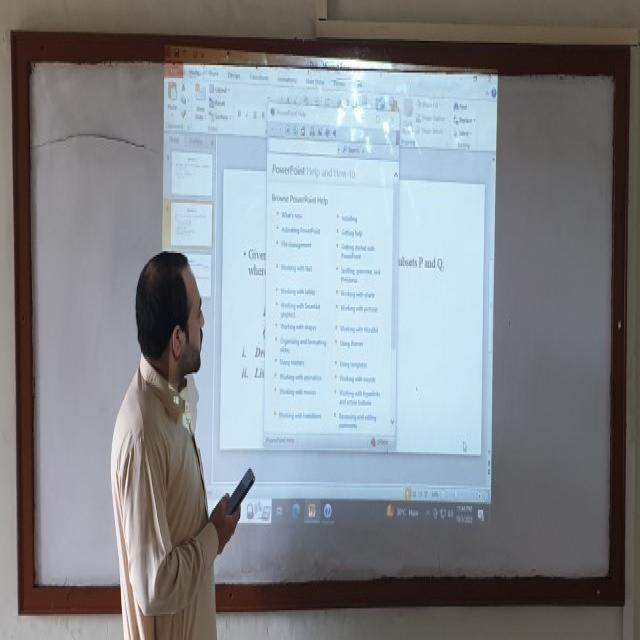Instructor: (111, 241, 226, 640)
Slide: (160, 44, 497, 535)
White-board: (19, 40, 621, 605)
